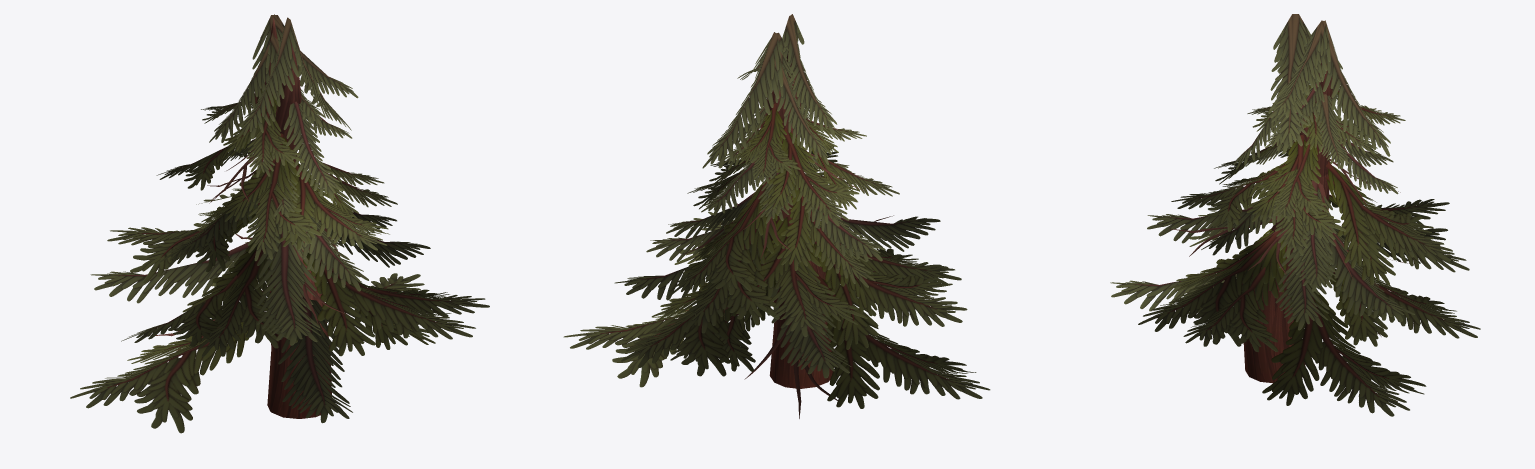
The model's file is Trees.fbx.
3 views of the same model, side by side, from view 1: azimuth 30°, elevation 25°; view 2: azimuth 150°, elevation 25°; view 3: azimuth 270°, elevation 25° (orthographic). The views are drawn at different scales.
Parts seen in each view (by area): view 1: Tree_02, Tree_01; view 2: Tree_01, Tree_02; view 3: Tree_02, Tree_01.
Part boxes in pixels (bbox=[...]): Tree_02: bbox=[70, 17, 475, 433]; Tree_01: bbox=[107, 14, 489, 418]; Tree_01: bbox=[614, 32, 967, 388]; Tree_02: bbox=[563, 14, 990, 418]; Tree_02: bbox=[1110, 14, 1480, 416]; Tree_01: bbox=[1147, 20, 1452, 383].
Size of the model in its own units: 5.43 by 4.26 by 4.79.
